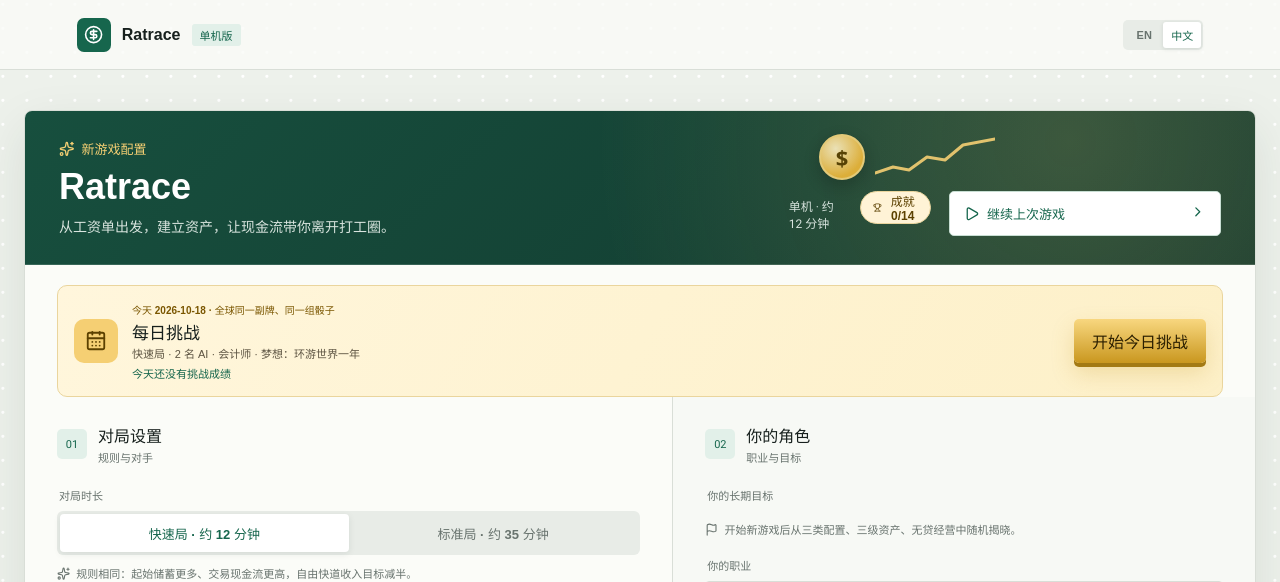
Test: cashflow app › shows asset types and upgrades the selected asset from the central controls
The width and height of the screenshot is (1280, 582).
Step 1. Click the button "继续上次游戏" → coordinates (1026, 215), box [948,191,1221,236]
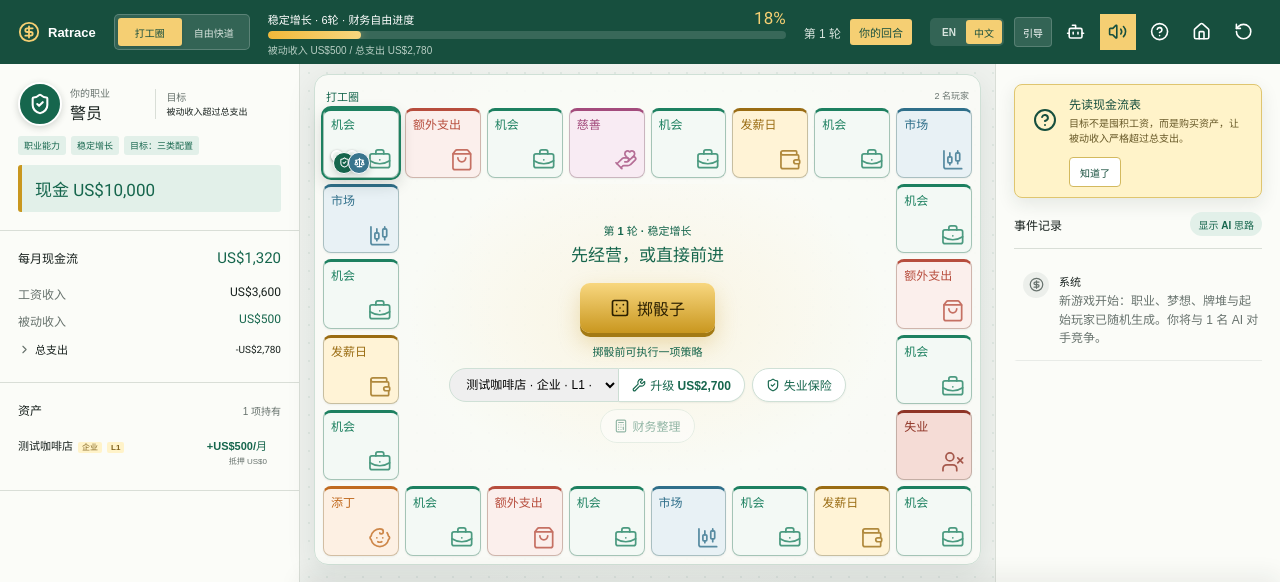
expect the text "企业" is shown: met, box [78,442,102,453]
expect the text "目标：三类配置" is shown: met, box [124,136,199,155]
expect the dropdown named "选择升级资产" shows "测试咖啡店 · 企业 · L1 · US$500/月": met, box [449,368,619,402]
Step 2. Click the button "升级 US$2,700" → coordinates (682, 385), box [619,368,745,402]
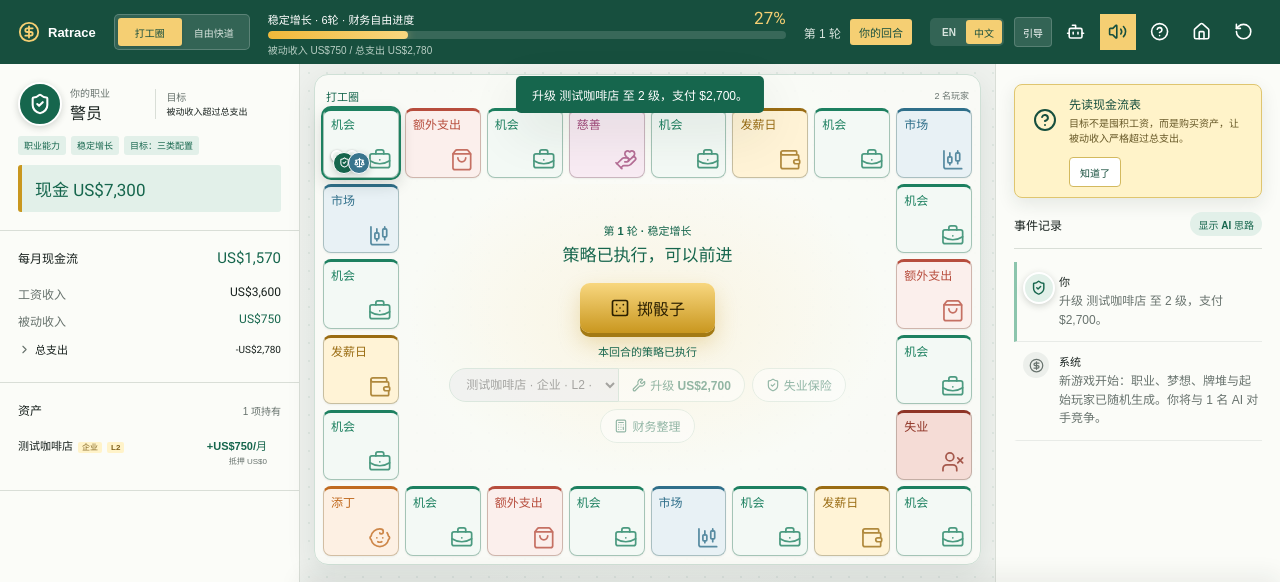
expect the text "L2" is shown: met, box [107,442,124,453]
expect the message shows "升级 测试咖啡店 至 2 级": met, box [532,89,748,103]
expect the text "+US$750/月" is shown: met, box [207,437,267,453]
